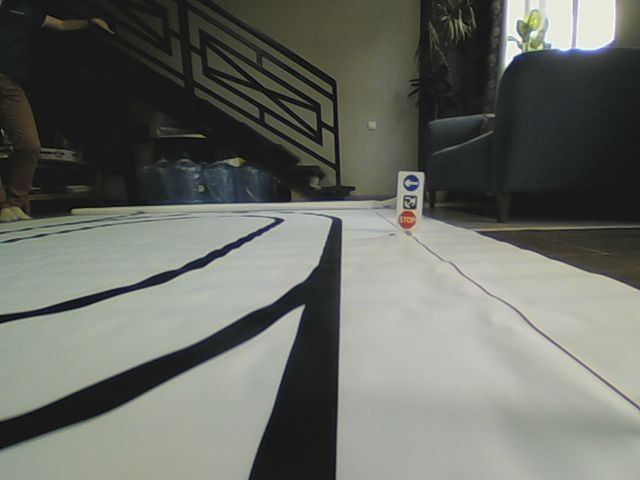Stop: (397, 209, 416, 229)
